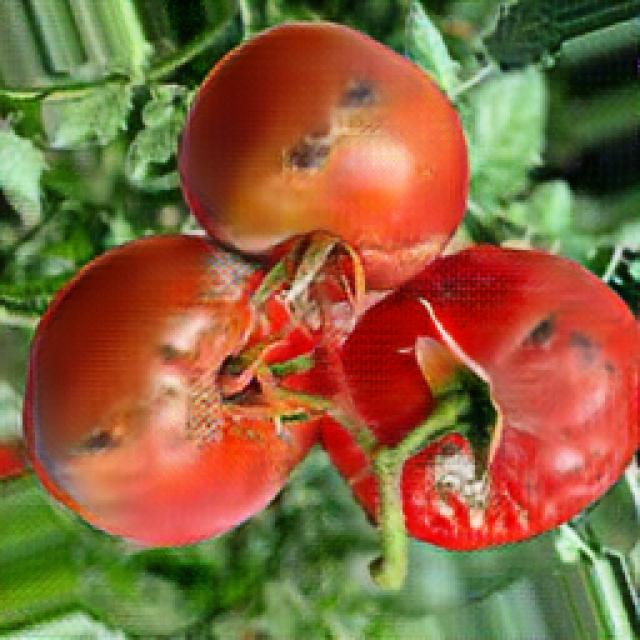overripe tomato: (327, 242, 640, 547), (19, 242, 310, 550), (175, 27, 472, 279)
